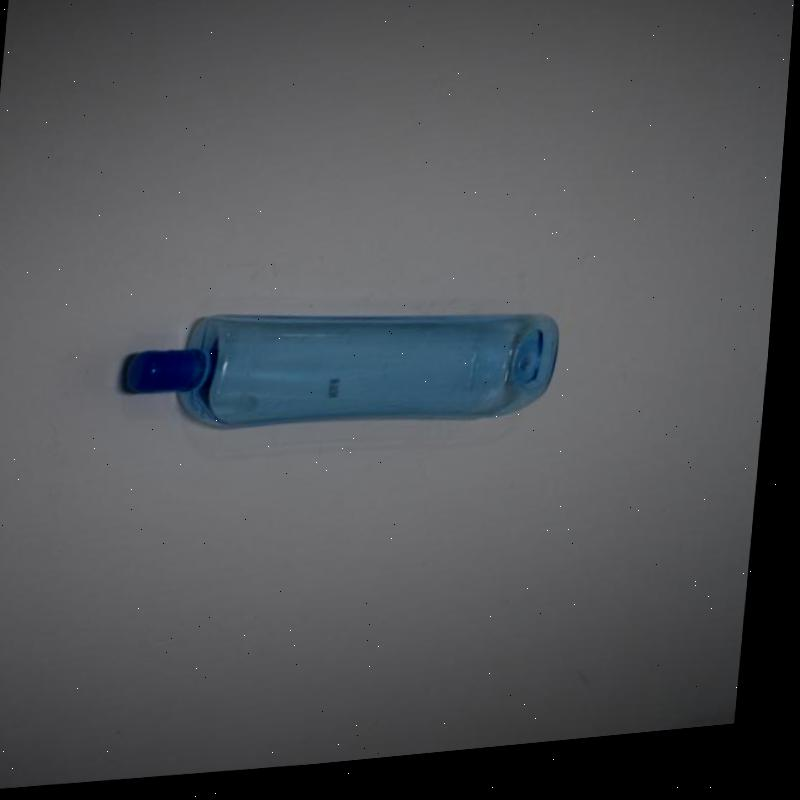botella: (129, 292, 565, 456)
